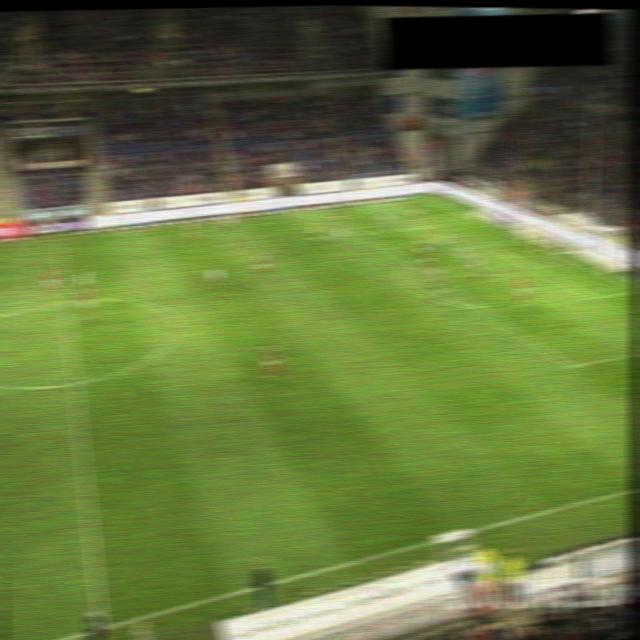bigarea_bottom_inner: (562, 358, 580, 371)
bigarea_top_inner: (355, 226, 373, 239)
bigarea_top_outter: (468, 212, 486, 224)
bottom_arc_area_intersection: (470, 299, 488, 311)
corner: (419, 194, 437, 206)
halfcircle_bottom: (62, 374, 87, 393)
halfcircle_top: (55, 295, 73, 307)
midline_top_intersection: (49, 232, 68, 245)
smallarea_bottom_inner: (584, 290, 602, 302)
smallarea_top_inner: (479, 239, 497, 251)
smallarea_top_outter: (518, 234, 536, 246)
top_arc_area_intersection: (399, 254, 417, 266)
